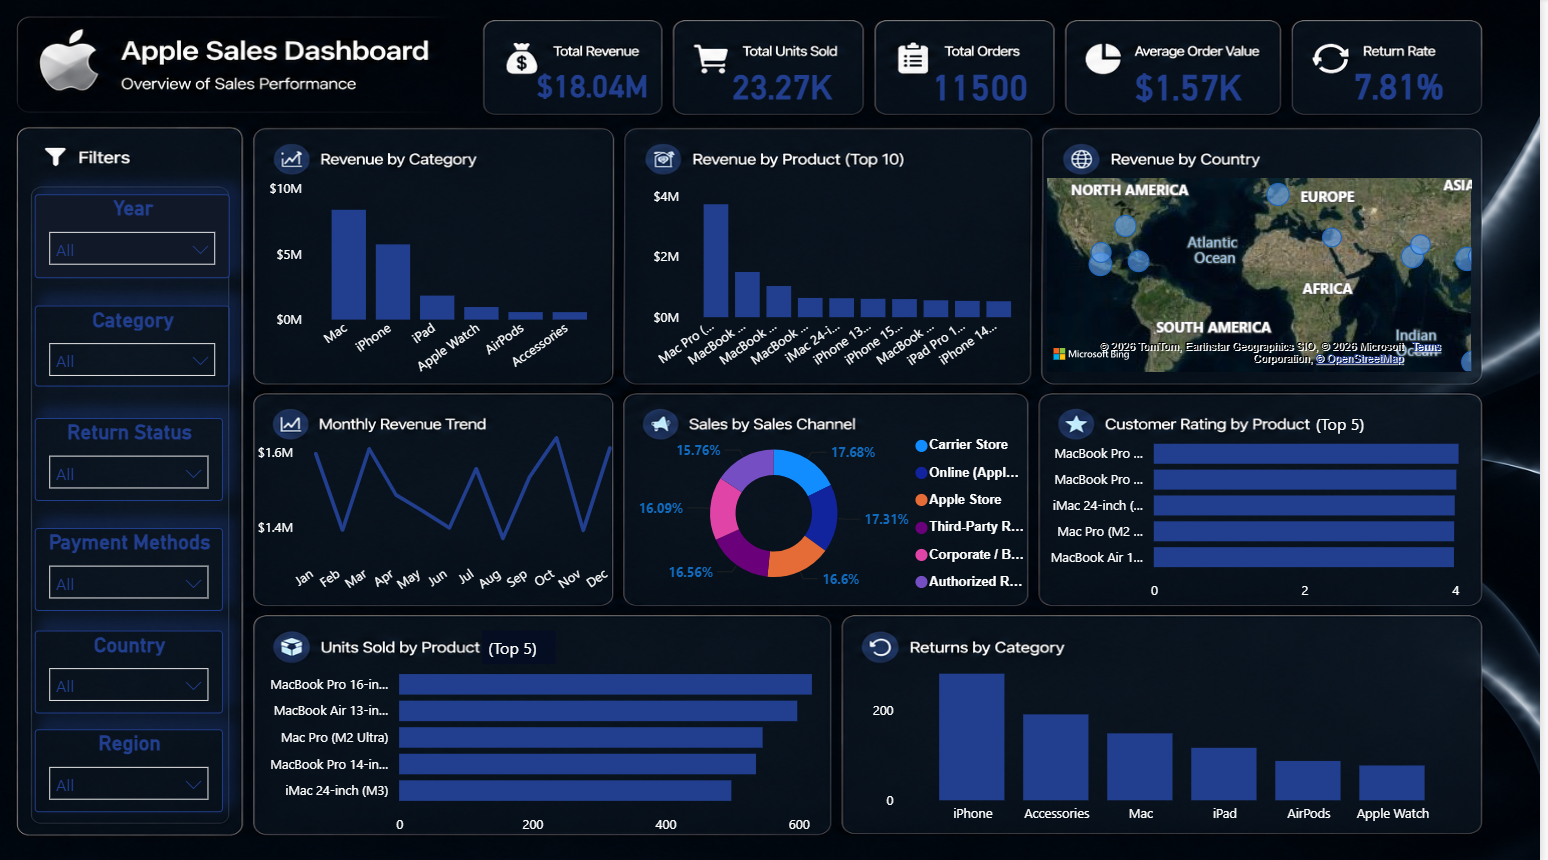

Layout of this report page (visuals, bound fields, positions):
{"tool":"powerbi","page":{"name":"Page 2","canvas":[1280,720],"ordinal":1},"visuals":[{"type":"card","fields":{"Values":["Messures.Total Revenue"]},"box":[425.6,43.3,136.7,57.8],"z":0},{"type":"card","fields":{"Values":["Messures.Total Orders"]},"box":[747.8,43.3,135.6,57.8],"z":1},{"type":"card","fields":{"Values":["Messures.Average Order Value"]},"box":[920,43.3,136.7,57.8],"z":2},{"type":"card","fields":{"Values":["Messures.Average Unit Price"]},"box":[582.2,43.3,138.9,57.8],"z":3},{"type":"card","fields":{"Values":["Messures.Return Rate"]},"box":[1088.9,30,147.8,84.4],"z":5},{"type":"columnChart","fields":{"Category":["apple_global_sales_dataset.category"],"Y":["Messures.Total Revenue"]},"box":[222.2,144.4,288.9,177.8],"z":6},{"type":"columnChart","fields":{"Category":["apple_global_sales_dataset.product_name"],"Y":["Messures.Total Revenue"]},"box":[526.7,150,331.1,165.6],"z":7},{"type":"azureMap","fields":{"Category":["apple_global_sales_dataset.country"],"Size":["Messures.Total Revenue"]},"box":[866.7,150,370,165.6],"z":8},{"type":"lineChart","fields":{"Y":["Messures.Total Revenue"],"Category":["Calendar.Month"]},"box":[211.1,331.1,312.2,171.1],"z":10},{"type":"donutChart","fields":{"Category":["apple_global_sales_dataset.sales_channel"],"Y":["Messures.Total Revenue"]},"box":[523.3,352.2,343.3,150],"z":11},{"type":"slicer","title":"Year","fields":{"Values":["Calendar.Year"]},"box":[31.1,162.2,155.6,124.4],"z":12},{"type":"slicer","title":"Category","fields":{"Values":["apple_global_sales_dataset.category"]},"box":[31.1,315.6,155.6,208.9],"z":13},{"type":"slicer","title":"Return Status","fields":{"Values":["apple_global_sales_dataset.return_status"]},"box":[31.1,548.9,155.6,124.4],"z":14},{"type":"clusteredBarChart","fields":{"Category":["apple_global_sales_dataset.product_name"],"Y":["Messures.Average Customer Rating"]},"box":[857.8,347.8,422.2,160],"z":15},{"type":"textbox","box":[1088.9,338.9,51.1,27.8],"z":16},{"type":"clusteredBarChart","fields":{"Category":["apple_global_sales_dataset.product_name"],"Y":["Sum(apple_global_sales_dataset.units_sold)"]},"box":[211.1,538.9,523.3,163.3],"z":17},{"type":"textbox","box":[403.3,524.4,61.1,27.8],"z":18},{"type":"columnChart","fields":{"Category":["apple_global_sales_dataset.category"],"Y":["Messures.Returned Orders"]},"box":[721.1,538.9,497.8,154.4],"z":19}]}

Visuals, with their boxes in screenshot pixels (x1, y1, x2, y2), scaled from the page's 1280x720 canvas onto the 1548x860 screenshot:
card - Messures.Total Revenue: pyautogui.locateOnScreen(515, 52, 680, 121)
card - Messures.Total Orders: pyautogui.locateOnScreen(904, 52, 1068, 121)
card - Messures.Average Order Value: pyautogui.locateOnScreen(1113, 52, 1278, 121)
card - Messures.Average Unit Price: pyautogui.locateOnScreen(704, 52, 872, 121)
card - Messures.Return Rate: pyautogui.locateOnScreen(1317, 36, 1496, 137)
columnChart - apple_global_sales_dataset.category x Messures.Total Revenue: pyautogui.locateOnScreen(269, 172, 618, 385)
columnChart - apple_global_sales_dataset.product_name x Messures.Total Revenue: pyautogui.locateOnScreen(637, 179, 1037, 377)
azureMap - apple_global_sales_dataset.country x Messures.Total Revenue: pyautogui.locateOnScreen(1048, 179, 1496, 377)
lineChart - Messures.Total Revenue x Calendar.Month: pyautogui.locateOnScreen(255, 395, 633, 600)
donutChart - apple_global_sales_dataset.sales_channel x Messures.Total Revenue: pyautogui.locateOnScreen(633, 421, 1048, 600)
"Year" slicer: pyautogui.locateOnScreen(38, 194, 226, 342)
"Category" slicer: pyautogui.locateOnScreen(38, 377, 226, 626)
"Return Status" slicer: pyautogui.locateOnScreen(38, 656, 226, 804)
clusteredBarChart - apple_global_sales_dataset.product_name x Messures.Average Customer Rating: pyautogui.locateOnScreen(1037, 415, 1547, 607)
textbox: pyautogui.locateOnScreen(1317, 405, 1379, 438)
clusteredBarChart - apple_global_sales_dataset.product_name x Sum(apple_global_sales_dataset.units_sold): pyautogui.locateOnScreen(255, 644, 888, 839)
textbox: pyautogui.locateOnScreen(488, 626, 562, 660)
columnChart - apple_global_sales_dataset.category x Messures.Returned Orders: pyautogui.locateOnScreen(872, 644, 1474, 828)
